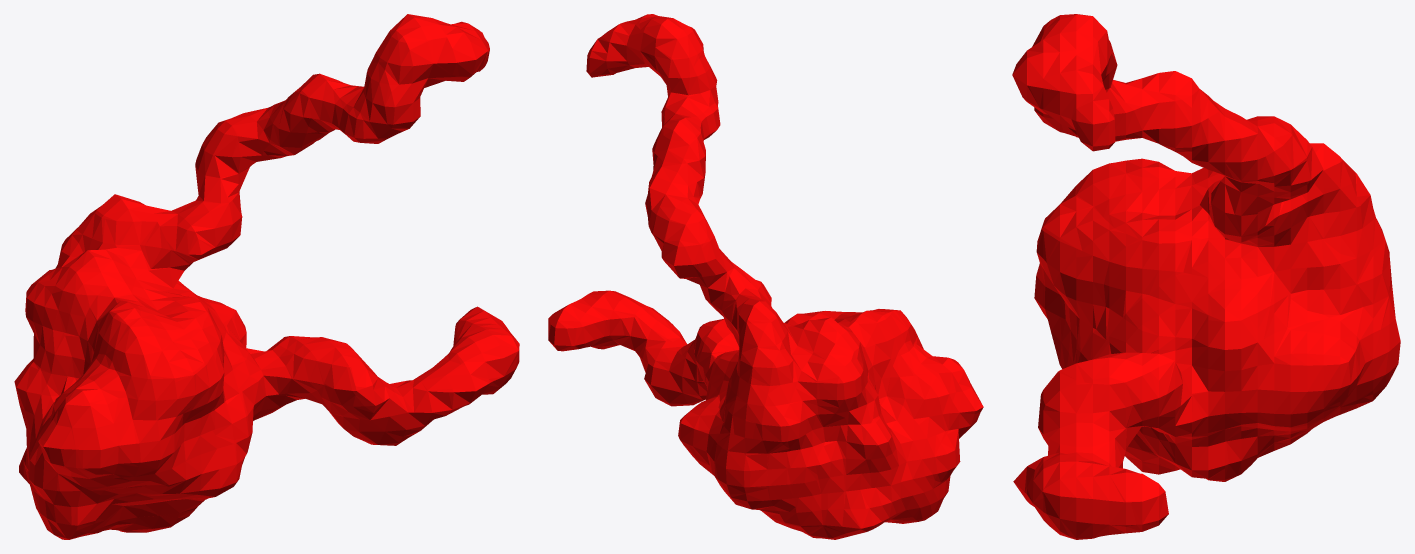
File: rfaI_coarse.dae
3 renders of one model, left to right at view 1: azimuth 30°, elevation 25°; view 2: azimuth 150°, elevation 25°; view 3: azimuth 270°, elevation 25°, orthographic. The views are drawn at different scales.
Visible parts, largest first — view 1: rfaI; view 2: rfaI; view 3: rfaI.
Boxes of the visible parts, x1=… form: rfaI: x1=14, y1=14, x2=519, y2=539; rfaI: x1=548, y1=14, x2=983, y2=539; rfaI: x1=1012, y1=14, x2=1400, y2=539.
Size of the model in its own units: 97.74 by 95.14 by 56.62.
